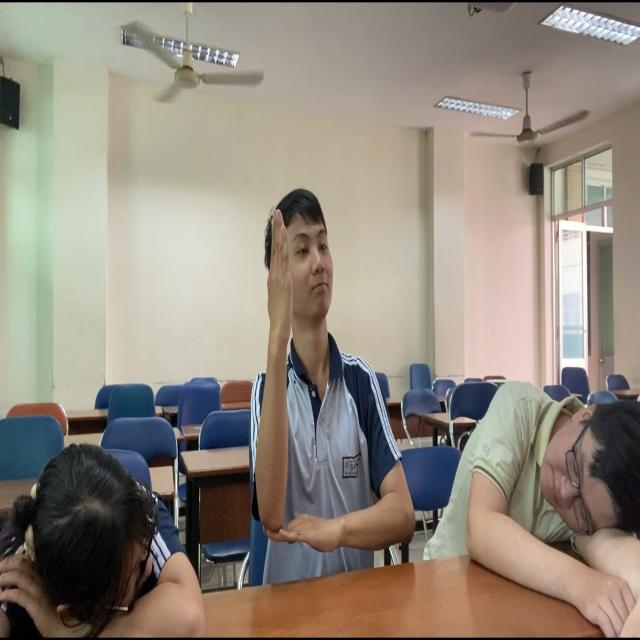raise_hand: (243, 184, 420, 589)
sleep: (419, 376, 640, 640), (1, 445, 213, 640)
